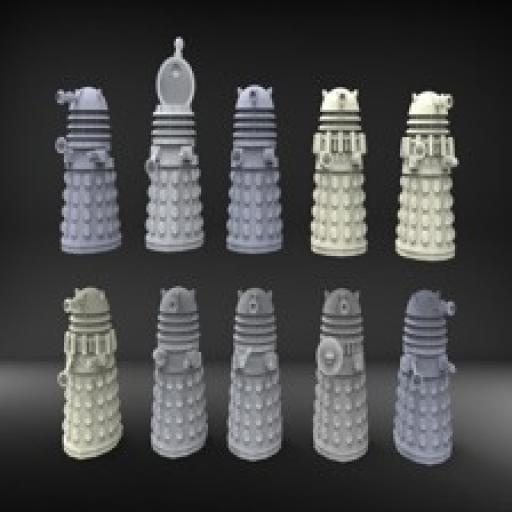dalek: (50, 83, 124, 257), (145, 37, 203, 251), (58, 287, 122, 457), (393, 291, 456, 462), (396, 94, 458, 260), (150, 287, 207, 457), (310, 88, 367, 256), (226, 288, 282, 458), (313, 289, 368, 461), (227, 84, 282, 252)
